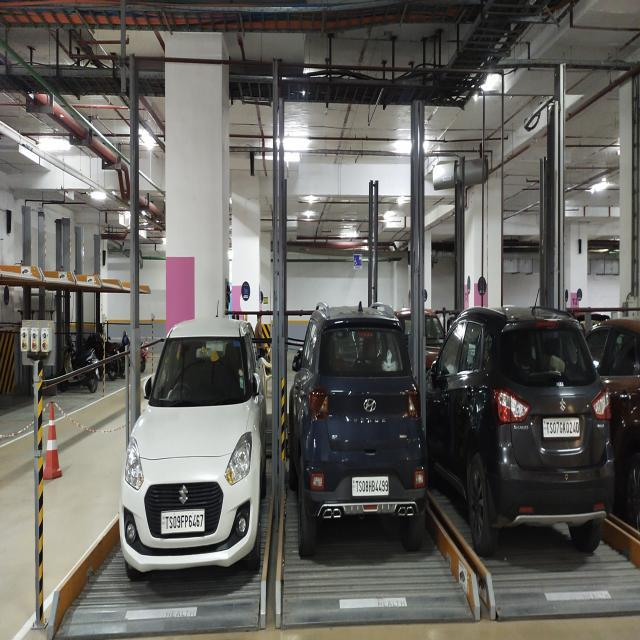car: (274, 320, 488, 638), (422, 300, 640, 581), (132, 326, 288, 630)
